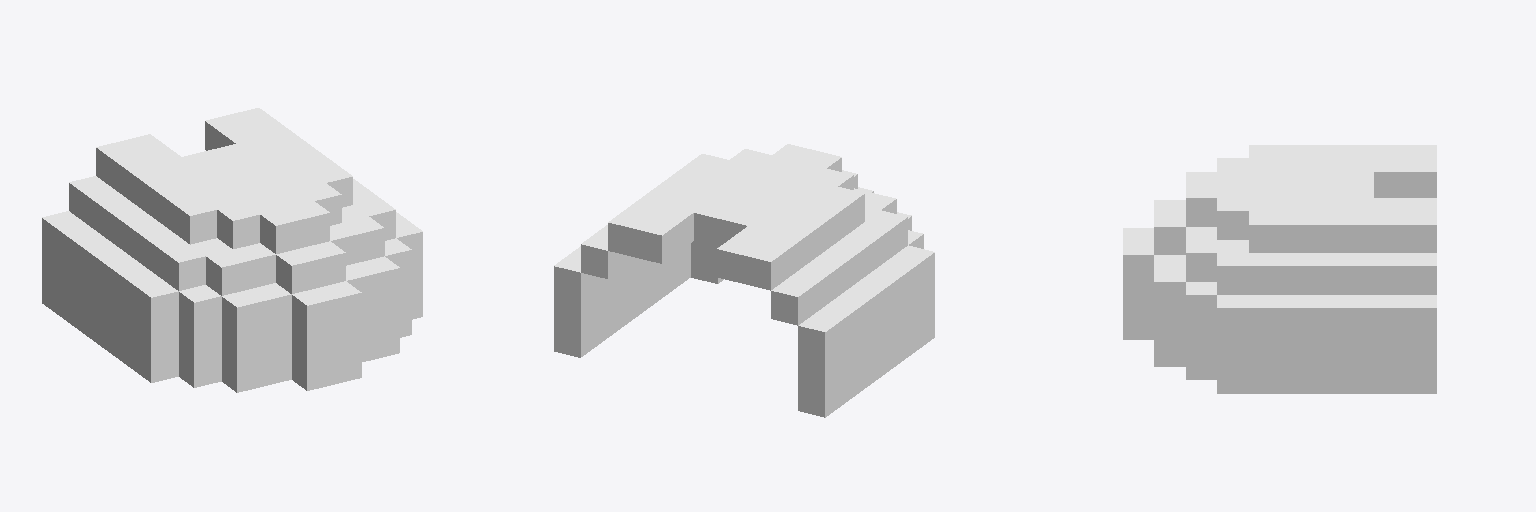
Rendered from GlassPilder.obj.
The picture shows the model from 3 angles: view 1: azimuth 30°, elevation 25°; view 2: azimuth 150°, elevation 25°; view 3: azimuth 270°, elevation 25°; orthographic projection.
Parts seen in each view (by area): view 1: GlassPilder; view 2: GlassPilder; view 3: GlassPilder.
Part boxes in pixels (x1,y1,x2,y2): GlassPilder: (42,108,422,392); GlassPilder: (554,144,934,417); GlassPilder: (1123,145,1436,393).
Bounding box in the file's own units: 10 × 5 × 10.